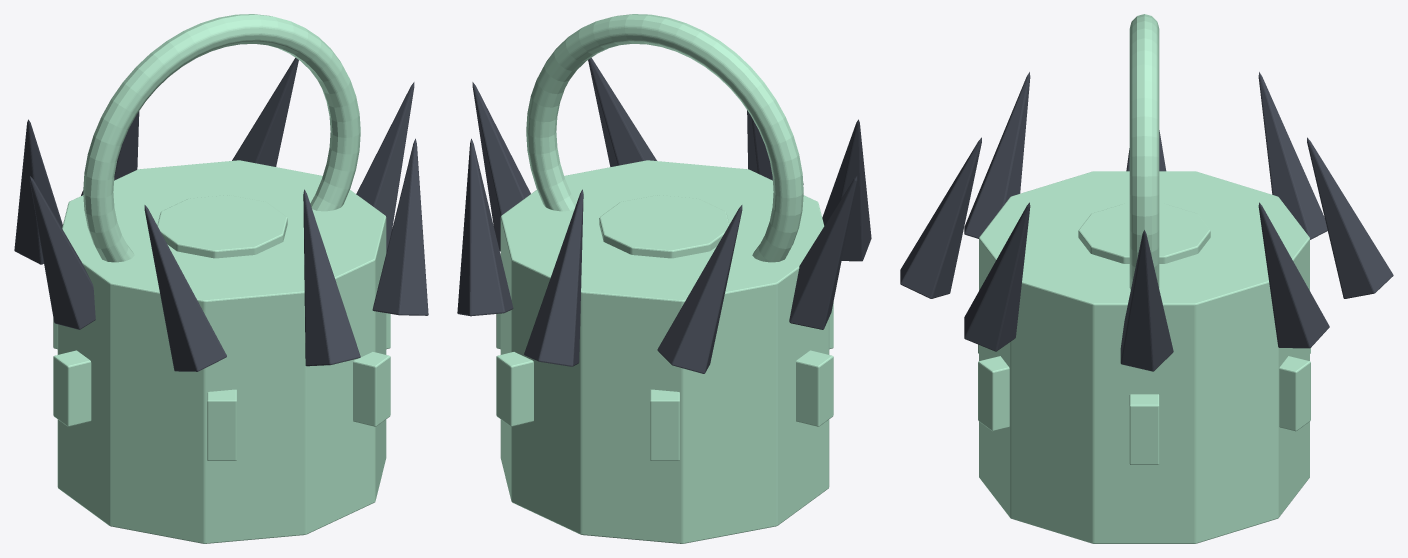
File: SM_Boss_Bergbahn.fbx
The picture shows the model from 3 angles, left to right: view 1: azimuth 30°, elevation 25°; view 2: azimuth 150°, elevation 25°; view 3: azimuth 270°, elevation 25°; orthographic projection.
Visible parts, largest first — view 1: SM_Boss_Bergbahn; view 2: SM_Boss_Bergbahn; view 3: SM_Boss_Bergbahn.
Part boxes in pixels (box(x1,y1,x2,y2)): SM_Boss_Bergbahn: box(14, 14, 428, 543); SM_Boss_Bergbahn: box(457, 14, 871, 543); SM_Boss_Bergbahn: box(900, 14, 1393, 543).
Size of the model in its own units: 3.27 by 3.76 by 3.68.
